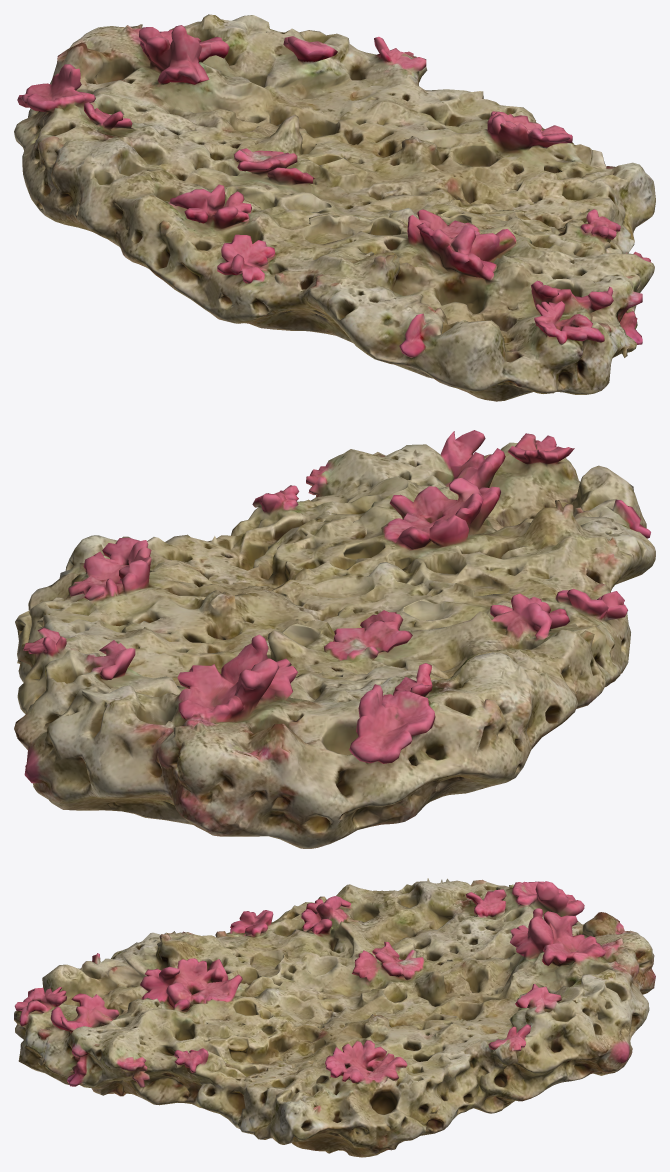
File: rock_c.glb
3 renders of one model, top to bottom at view 1: azimuth 30°, elevation 25°; view 2: azimuth 150°, elevation 25°; view 3: azimuth 270°, elevation 25°, orthographic. The views are drawn at different scales.
Parts seen in each view (by area): view 1: tripo_node_c1e48cc7-5409-4087-a712-cc99b0cecd74; view 2: tripo_node_c1e48cc7-5409-4087-a712-cc99b0cecd74; view 3: tripo_node_c1e48cc7-5409-4087-a712-cc99b0cecd74.
Part boxes in pixels (left/top/right/bottom): tripo_node_c1e48cc7-5409-4087-a712-cc99b0cecd74: left=14, top=14, right=655, bottom=401; tripo_node_c1e48cc7-5409-4087-a712-cc99b0cecd74: left=14, top=430, right=655, bottom=848; tripo_node_c1e48cc7-5409-4087-a712-cc99b0cecd74: left=14, top=878, right=655, bottom=1157.
Size of the model in its own units: 0.7206 by 0.2582 by 1.
Materials: 1 (1 with a texture image).
